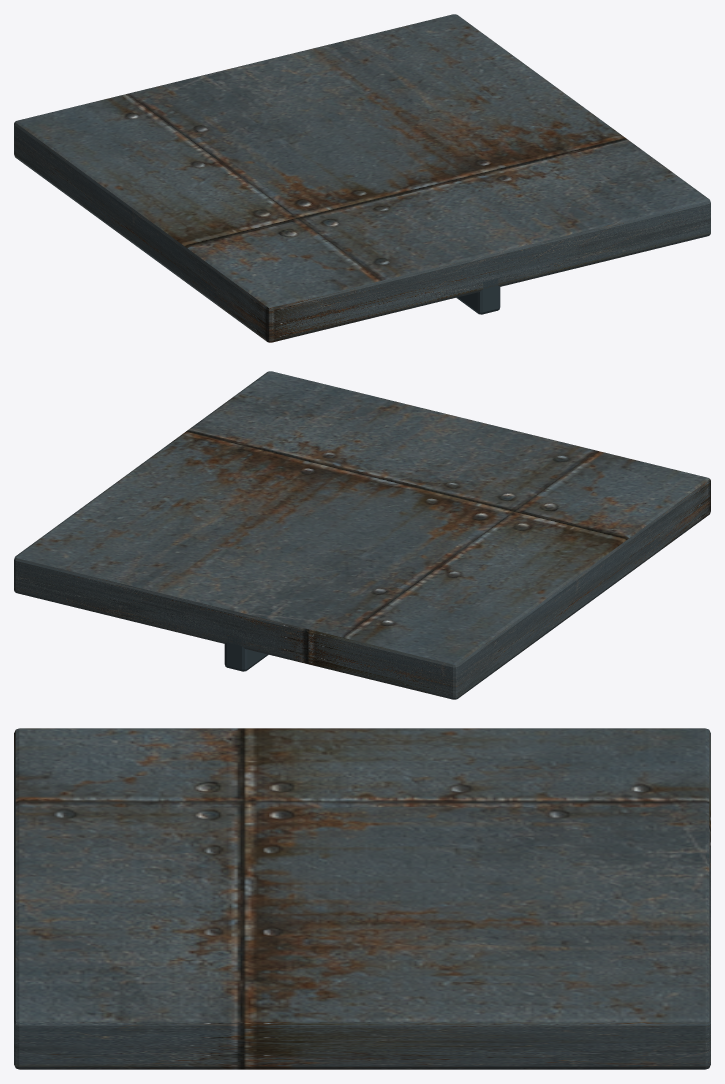
The model's file is ceiling_worklight_bay.glb.
The picture shows the model from 3 angles, top to bottom: view 1: azimuth 30°, elevation 25°; view 2: azimuth 150°, elevation 25°; view 3: azimuth 270°, elevation 25°; orthographic projection. The views are drawn at different scales.
Parts seen in each view (by area): view 1: Ceiling panel, Ceiling cross brace; view 2: Ceiling panel, Ceiling cross brace; view 3: Ceiling panel.
Part boxes in pixels (bbox=[...]): Ceiling panel: bbox=[14, 14, 710, 342]; Ceiling cross brace: bbox=[456, 278, 500, 314]; Ceiling panel: bbox=[14, 371, 710, 699]; Ceiling cross brace: bbox=[224, 636, 268, 671]; Ceiling panel: bbox=[14, 728, 710, 1069].
Bounding box in the file's own units: 2 × 0.26 × 2.
Materials: 3 (1 with a texture image).
